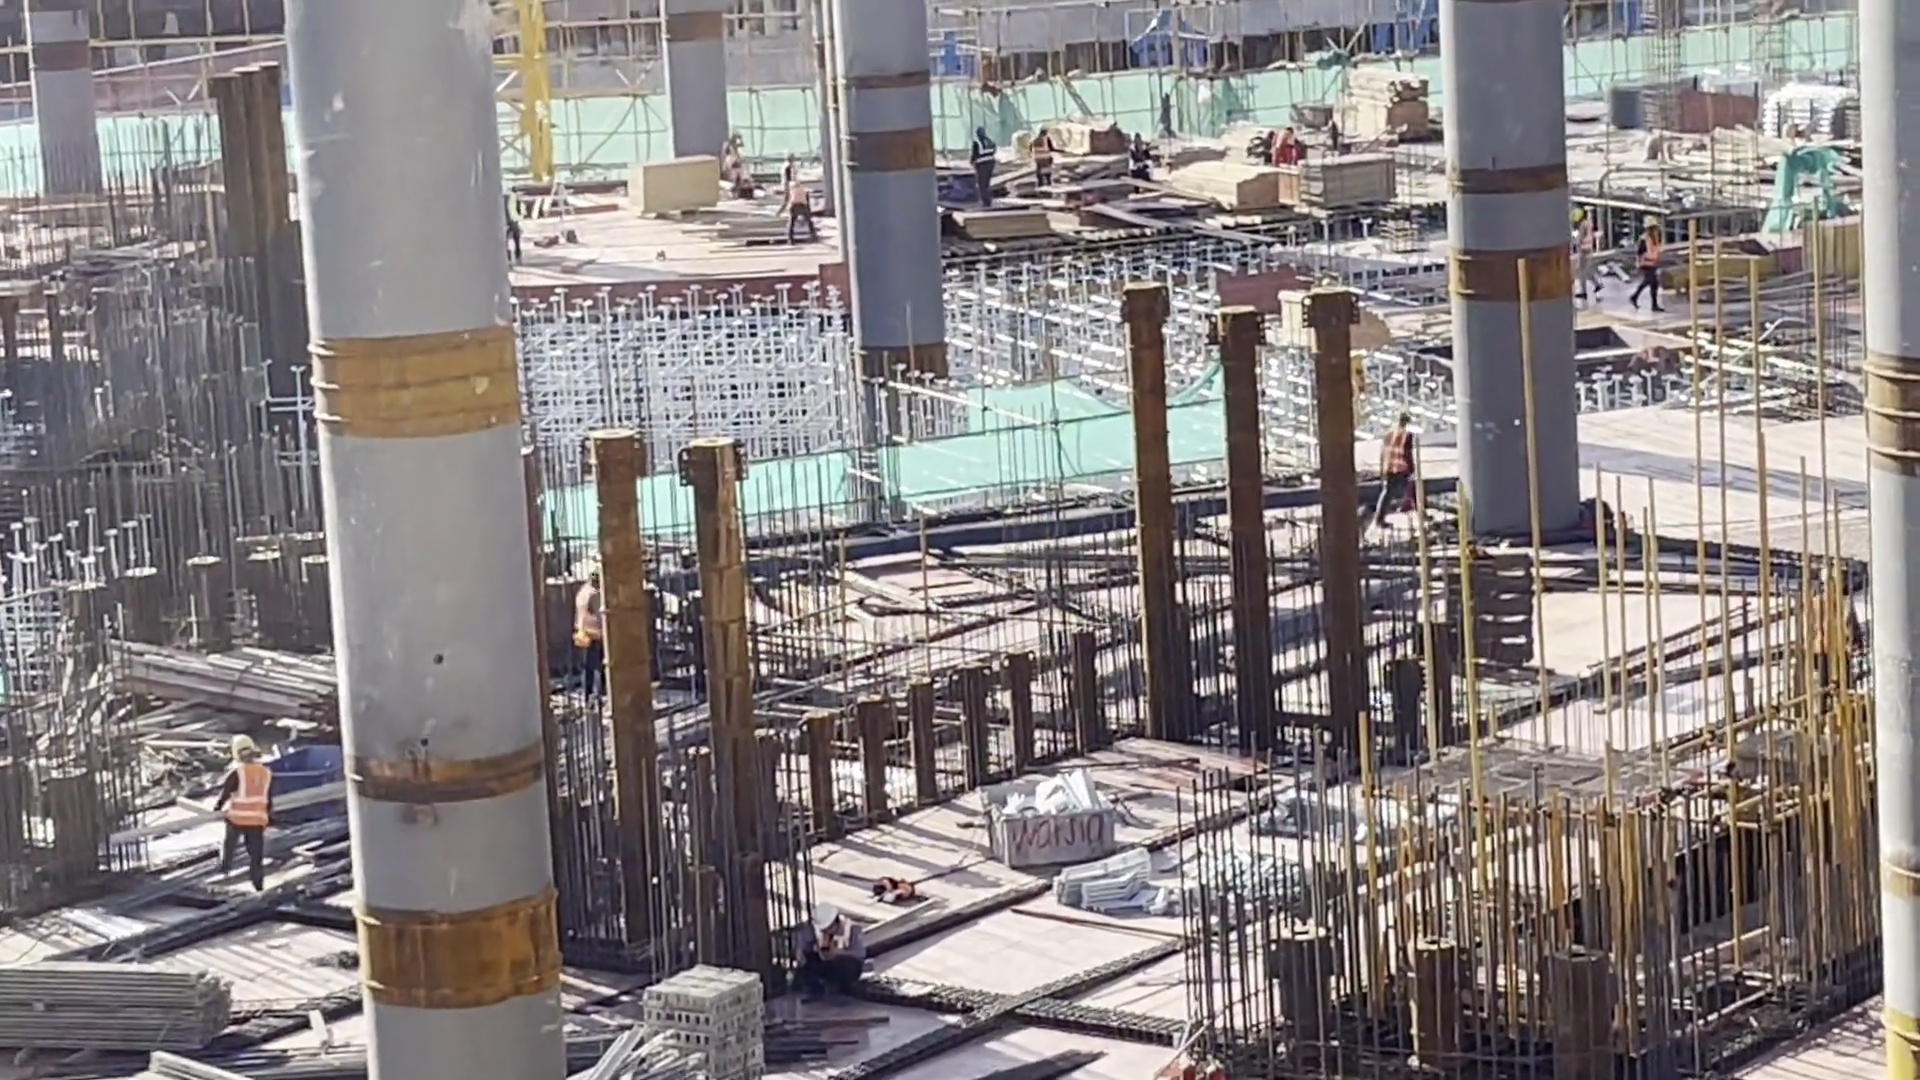helmet: (806, 900, 847, 941), (223, 733, 259, 767), (578, 552, 597, 579), (1645, 204, 1661, 230), (1401, 404, 1420, 422)
hopper: (959, 763, 1132, 882), (245, 728, 349, 816)
person: (201, 716, 289, 890), (797, 890, 877, 997), (1621, 201, 1682, 316), (1386, 395, 1437, 530), (566, 550, 611, 664), (960, 117, 1004, 209), (1023, 123, 1060, 198), (792, 176, 825, 250), (1128, 126, 1151, 179), (1277, 127, 1297, 167), (1252, 113, 1267, 167)
vest: (219, 761, 271, 829), (1386, 435, 1416, 490), (570, 592, 601, 638), (1645, 229, 1661, 271), (790, 188, 810, 215), (1036, 137, 1051, 172), (972, 141, 992, 165)
wood: (1, 956, 241, 1064)
